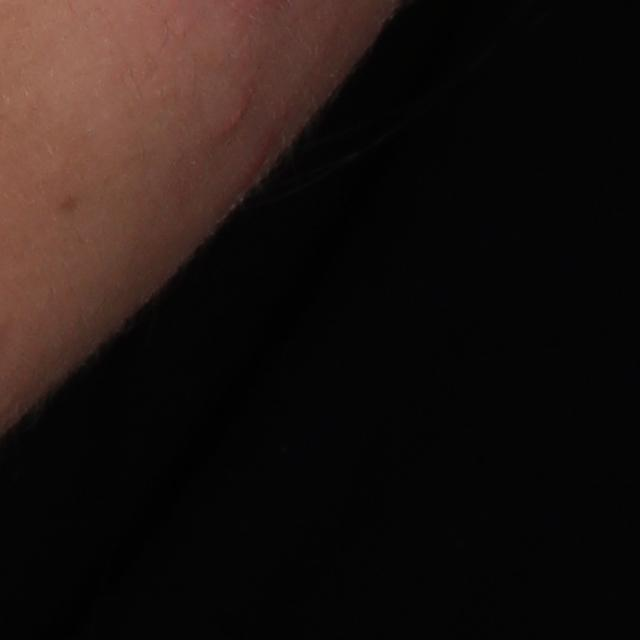papule: (208, 93, 253, 144)
